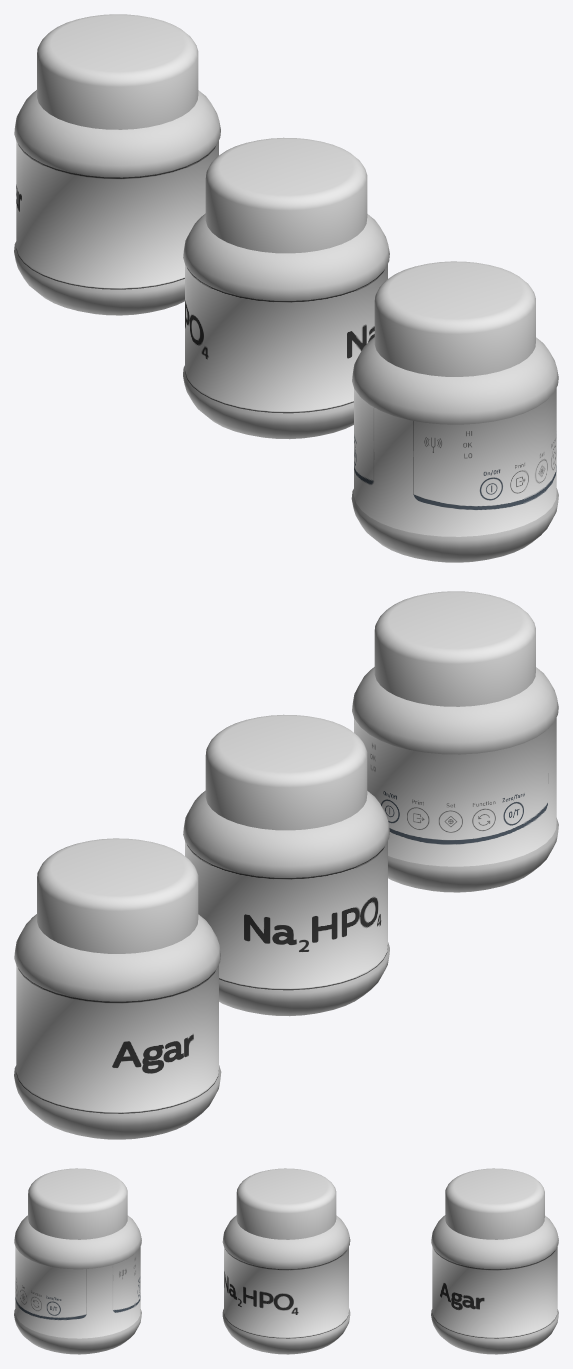
File: 10Reactivy.fbx
The picture shows the model from 3 angles, top to bottom: view 1: azimuth 30°, elevation 25°; view 2: azimuth 150°, elevation 25°; view 3: azimuth 270°, elevation 25°; orthographic projection. The views are drawn at different scales.
Parts seen in each view (by area): view 1: base, base.002, base.001, cap.001, cap, cap.002; view 2: base.002, base, base.001, cap.001, cap, cap.002; view 3: base.002, base, base.001, cap.001, cap, cap.002.
Part boxes in pixels (x1,y1,x2,y2): base: (351, 337, 558, 562); base.002: (14, 90, 220, 315); base.001: (183, 213, 389, 439); cap.001: (205, 137, 367, 253); cap: (374, 261, 535, 376); cap.002: (37, 14, 198, 129); base.002: (14, 914, 221, 1139); base: (352, 667, 558, 892); base.001: (183, 790, 389, 1016); cap.001: (205, 714, 367, 830); cap: (374, 591, 535, 706); cap.002: (37, 838, 198, 953); base.002: (431, 1215, 558, 1354); base: (14, 1215, 141, 1354); base.001: (222, 1215, 350, 1354); cap.001: (236, 1168, 336, 1239); cap: (28, 1168, 127, 1239); cap.002: (445, 1168, 544, 1239).
Size of the model in its own units: 150 by 194 by 639.
